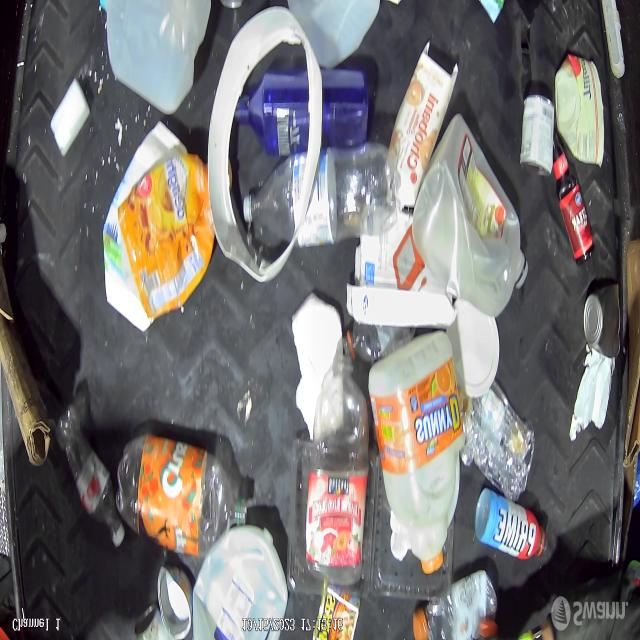can: (580, 282, 622, 358), (520, 100, 555, 180), (157, 565, 193, 640), (133, 603, 168, 640)
milk_jug: (416, 109, 527, 322), (373, 342, 461, 572), (100, 0, 214, 117), (193, 524, 288, 640)
plastic_bottle: (238, 140, 396, 256), (115, 432, 248, 558), (308, 362, 364, 591), (59, 408, 127, 552), (462, 398, 532, 496), (412, 569, 498, 640), (474, 489, 549, 561)
